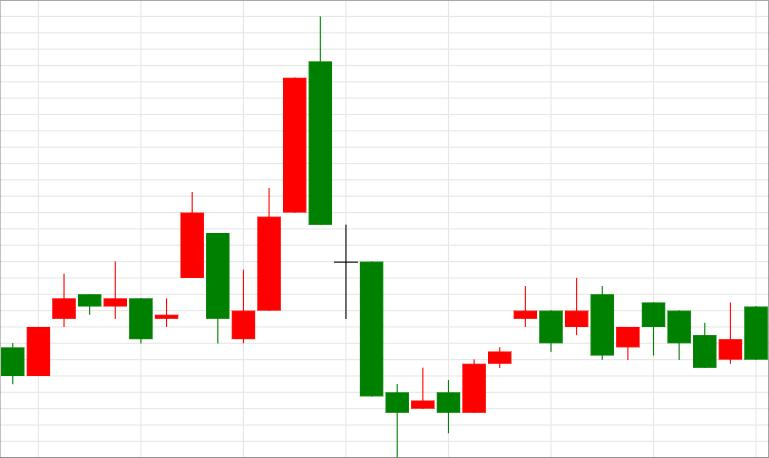bearish_engulfing_fall: (206, 16, 332, 343)
